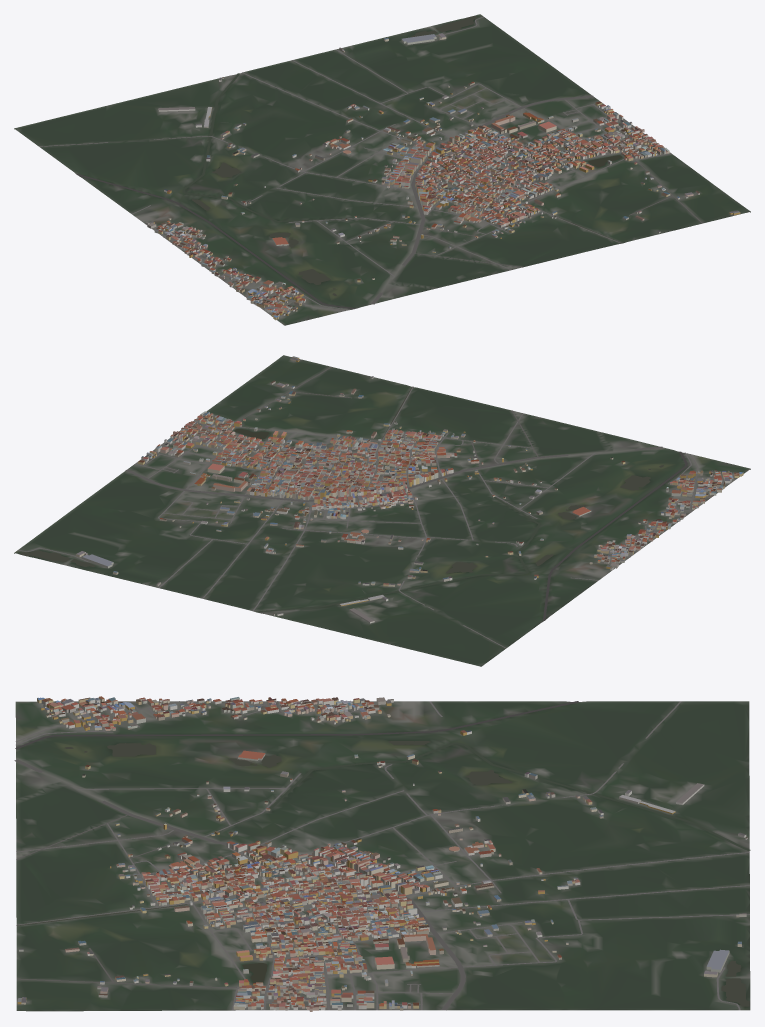
3 views of the same model, one above another, from view 1: azimuth 30°, elevation 25°; view 2: azimuth 150°, elevation 25°; view 3: azimuth 270°, elevation 25° (orthographic). The views are drawn at different scales.
Parts seen in each view (by area): view 1: ground, buildings, roads, water; view 2: ground, buildings, roads, water; view 3: ground, buildings, roads, water.
Part boxes in pixels (x1,y1,x2,y2): ground: [14, 14, 750, 325]; buildings: [145, 33, 740, 320]; roads: [39, 16, 702, 315]; water: [76, 16, 622, 308]; ground: [14, 355, 750, 666]; buildings: [76, 356, 743, 623]; roads: [18, 367, 734, 648]; water: [20, 386, 687, 620]; ground: [15, 701, 750, 1011]; buildings: [17, 696, 747, 1011]; roads: [14, 701, 749, 1010]; water: [15, 701, 750, 1006].
Bounding box in the file's own units: 1411 × 24.45 × 1409.
